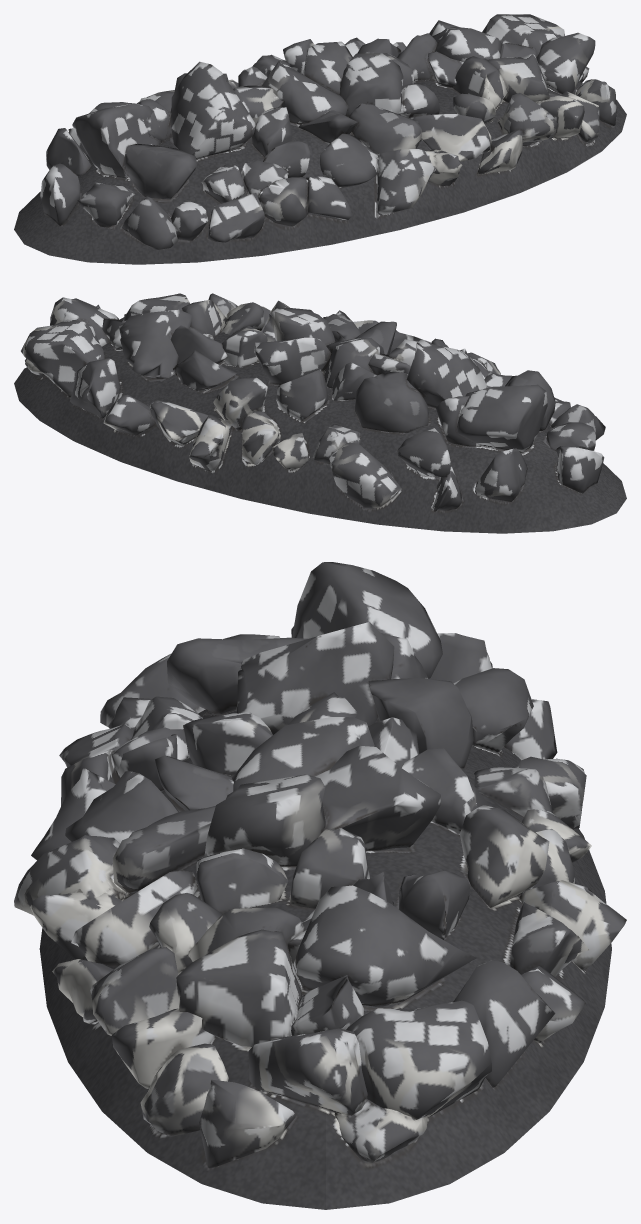
File: SM_Camp_OreSilver.fbx
3 renders of one model, top to bottom at view 1: azimuth 30°, elevation 25°; view 2: azimuth 150°, elevation 25°; view 3: azimuth 270°, elevation 25°, orthographic. The views are drawn at different scales.
Visible parts, largest first — view 1: SM_Camp_OreSilver; view 2: SM_Camp_OreSilver; view 3: SM_Camp_OreSilver.
Part boxes in pixels (box(x1,y1,x2,y2)): SM_Camp_OreSilver: box(14, 14, 626, 264); SM_Camp_OreSilver: box(14, 293, 626, 533); SM_Camp_OreSilver: box(14, 562, 626, 1209).
Bounding box in the file's own units: 164 × 81.4 × 33.88.
